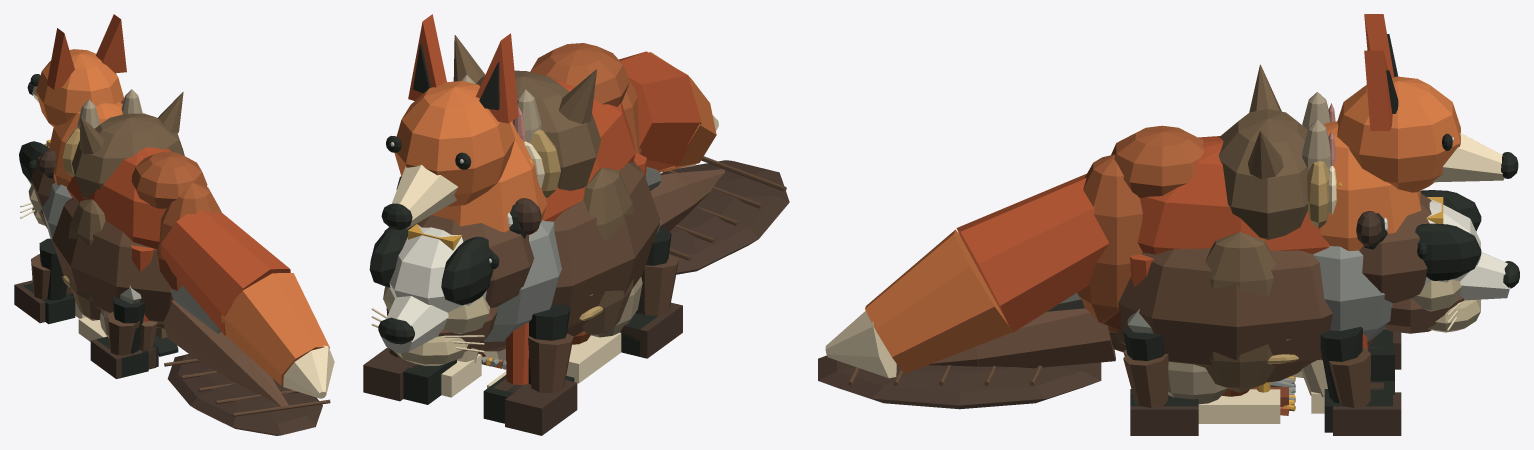
The model's file is wildlife-kit-v4.glb.
3 renders of one model, left to right at view 1: azimuth 30°, elevation 25°; view 2: azimuth 150°, elevation 25°; view 3: azimuth 270°, elevation 25°, orthographic. The views are drawn at different scales.
Parts seen in each view (by area): view 1: Tail.003, Body.008, Tail.008, Head.002, Body.003, Tail.006, Tail, Head.003, LegFL.001, WingL, LegBL.005, LegBL.001 (+14 smaller); view 2: Head.003, Head.001, Body.008, Tail.008, Head.002, Tail.003, Body.003, Head.008, LegFL.004, Tail.006, WingL, Body.001 (+14 smaller); view 3: Tail.003, Body.008, Body.003, Head.002, Head.003, Tail.006, Tail.008, Head.001, Tail, WingR, Head.008, Body.001 (+13 smaller).
Part boxes in pixels (left/top/right/bottom): Tail.003: left=161, top=209, right=334, bottom=398; Body.008: left=52, top=198, right=173, bottom=324; Tail.008: left=164, top=354, right=330, bottom=435; Head.002: left=62, top=92, right=184, bottom=198; Body.003: left=49, top=102, right=171, bottom=249; Tail.006: left=131, top=151, right=221, bottom=303; Tail: left=163, top=301, right=288, bottom=406; Head.003: left=27, top=49, right=123, bottom=127; LegFL.001: left=23, top=238, right=75, bottom=324; WingL: left=62, top=199, right=105, bottom=320; LegBL.005: left=90, top=311, right=142, bottom=378; LegBL.001: left=96, top=296, right=148, bottom=377; Head.003: left=381, top=81, right=514, bottom=229; Head.001: left=369, top=204, right=526, bottom=353; Body.008: left=552, top=160, right=660, bottom=336; Tail.008: left=660, top=156, right=789, bottom=274; Head.002: left=453, top=35, right=601, bottom=197; Tail.003: left=619, top=51, right=718, bottom=172; Body.003: left=432, top=78, right=635, bottom=235; Head.008: left=383, top=215, right=534, bottom=333; LegFL.004: left=505, top=333, right=577, bottom=435; Tail.006: left=530, top=43, right=641, bottom=154; WingL: left=579, top=168, right=633, bottom=335; Body.001: left=483, top=220, right=561, bottom=341; Tail.003: left=825, top=173, right=1109, bottom=378; Body.008: left=1114, top=248, right=1332, bottom=382; Body.003: left=1137, top=121, right=1421, bottom=254; Head.002: left=1218, top=64, right=1341, bottom=239; Head.003: left=1337, top=76, right=1518, bottom=192; Tail.006: left=1077, top=125, right=1204, bottom=332; Tail.008: left=818, top=355, right=1101, bottom=409; Head.001: left=1364, top=190, right=1519, bottom=300; Tail: left=929, top=308, right=1115, bottom=368; WingR: left=1205, top=232, right=1298, bottom=392; Head.008: left=1359, top=193, right=1461, bottom=311; Body.001: left=1313, top=246, right=1393, bottom=341.
Size of the model in its own units: 0.52 by 0.965 by 1.7.
